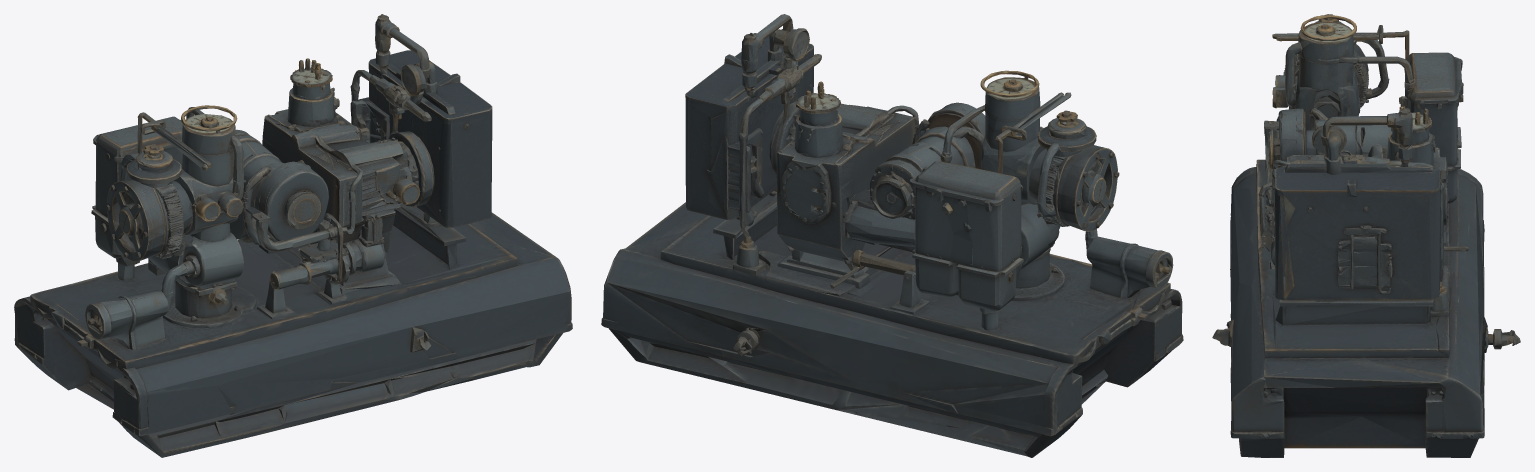
Rendered from generator.glb.
3 renders of one model, left to right at view 1: azimuth 30°, elevation 25°; view 2: azimuth 150°, elevation 25°; view 3: azimuth 270°, elevation 25°, orthographic. The views are drawn at different scales.
Bounding box in the file's own units: 1.9 × 1.26 × 1.12.
1 material, 1 textured.
